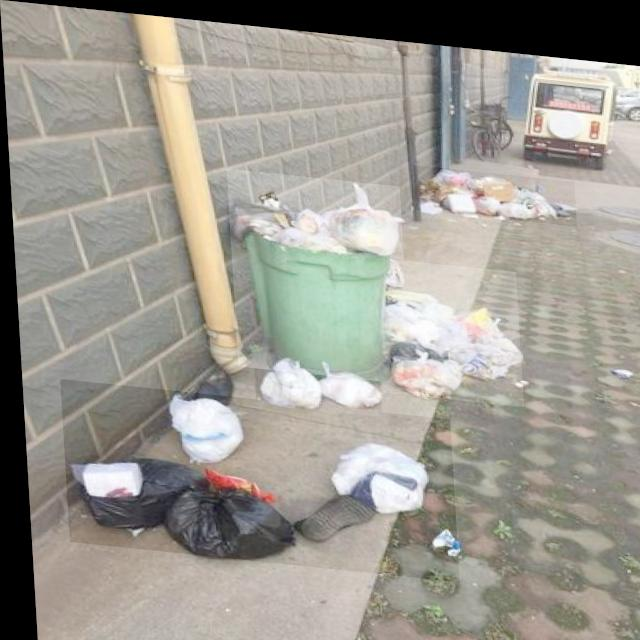garbage: (55, 378, 453, 573), (372, 250, 520, 396), (412, 156, 575, 214), (249, 348, 378, 409)
overflow: (225, 164, 407, 376)
